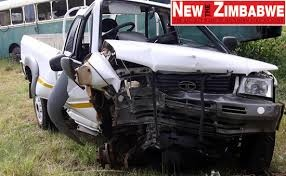Broken-glass: (121, 72, 160, 95)
Smashed: (73, 45, 217, 165), (43, 72, 99, 141)
